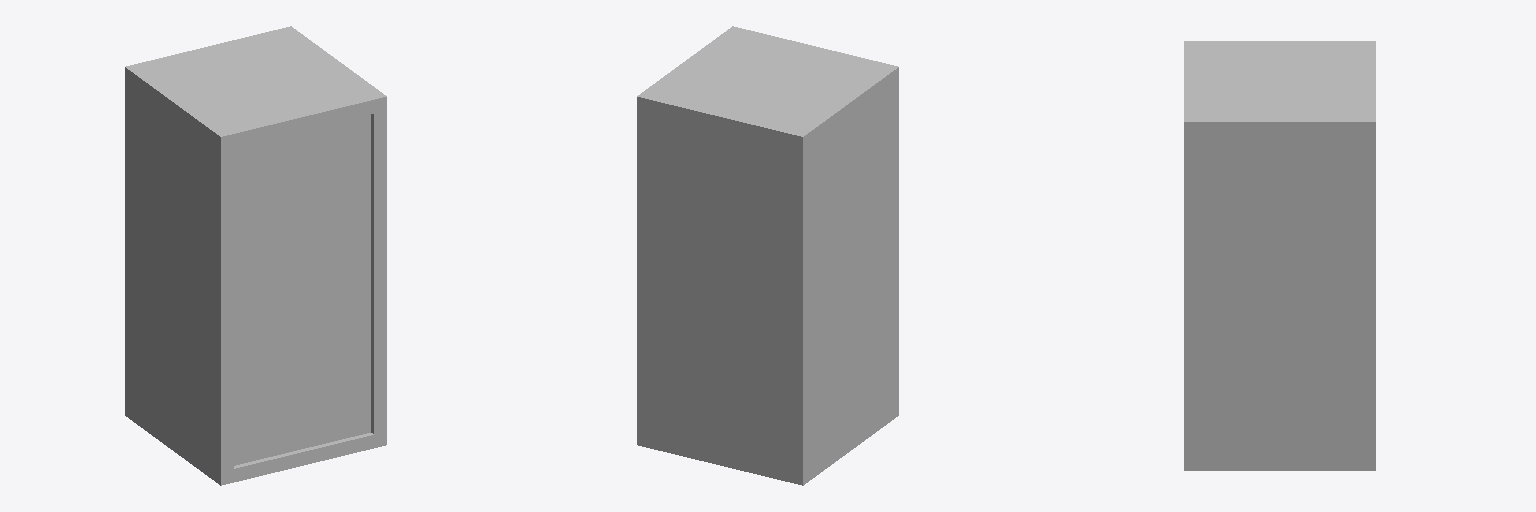
File: Congelados_Container.obj
3 renders of one model, left to right at view 1: azimuth 30°, elevation 25°; view 2: azimuth 150°, elevation 25°; view 3: azimuth 270°, elevation 25°, orthographic.
Parts seen in each view (by area): view 1: Cube; view 2: Cube; view 3: Cube.
Part boxes in pixels (left/top/right/bottom): Cube: left=125, top=26, right=386, bottom=485; Cube: left=637, top=26, right=898, bottom=485; Cube: left=1184, top=41, right=1375, bottom=470.
Bounding box in the file's own units: 2 × 4 × 2.